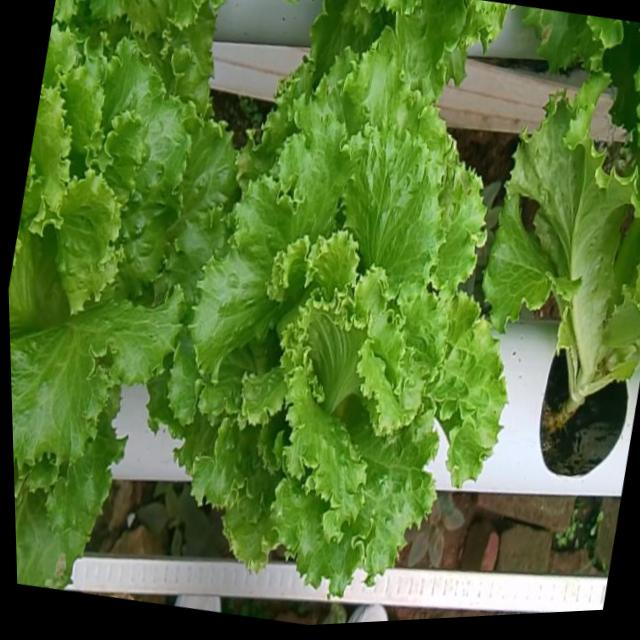Mature: (156, 64, 494, 607), (9, 51, 227, 487)
